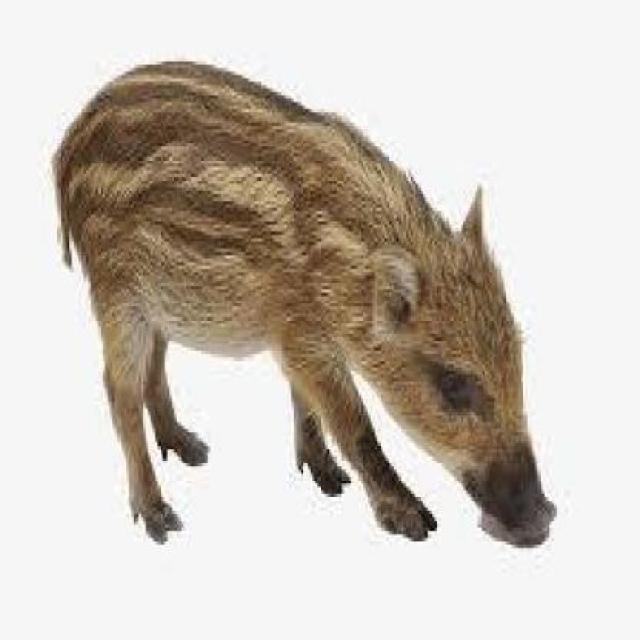wildboar: (45, 54, 562, 568)
